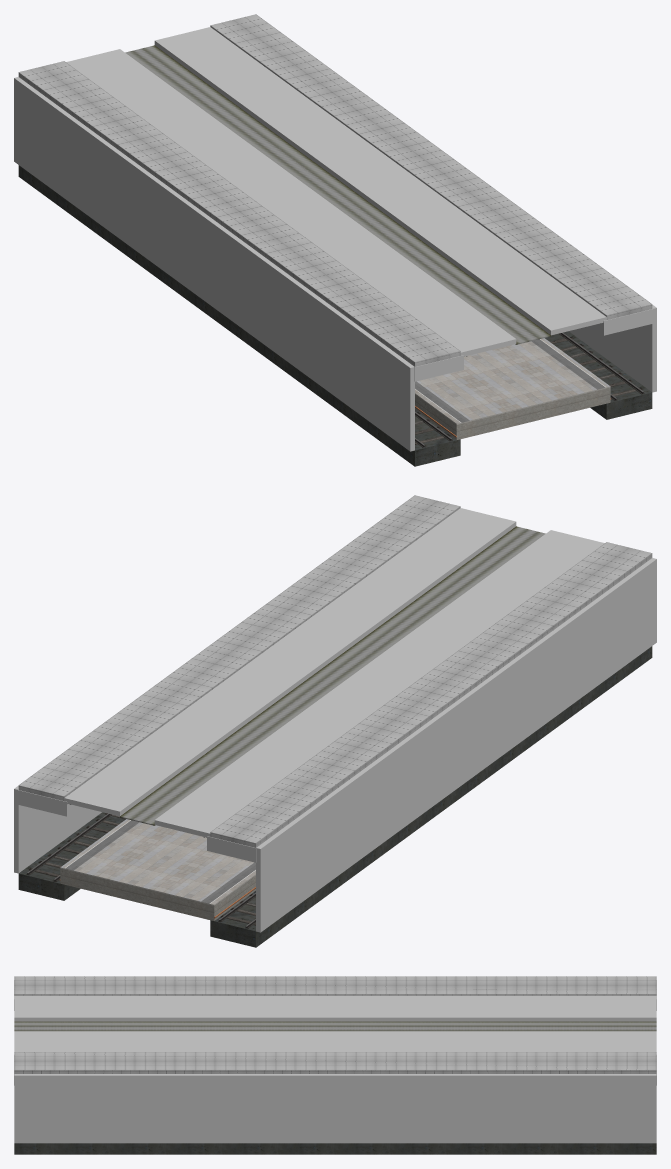
The model's file is Subway03.FBX.
The picture shows the model from 3 angles, top to bottom: view 1: azimuth 30°, elevation 25°; view 2: azimuth 150°, elevation 25°; view 3: azimuth 270°, elevation 25°; orthographic projection. The views are drawn at different scales.
Parts seen in each view (by area): view 1: Subway03Ceiling, Subway03CeilingUp, Subway03Side01a, Subway03Floor, Subway03CeilingLight, Subway03Railfloor, Subway03Side01Part, Subway03Railway; view 2: Subway03Ceiling, Subway03CeilingUp, Subway03Side01a, Subway03Floor, Subway03CeilingLight, Subway03Railfloor, Subway03Side01Part, Subway03Railway; view 3: Subway03Side01a, Subway03Ceiling, Subway03CeilingUp, Subway03Railfloor, Subway03CeilingLight.
Part boxes in pixels (x1,y1,x2,y2): Subway03Ceiling: (66,27,606,356); Subway03CeilingUp: (18,14,652,366); Subway03Side01a: (14,77,656,451); Subway03Floor: (415,338,610,439); Subway03CeilingLight: (125,45,550,344); Subway03Railfloor: (18,165,652,466); Subway03Side01Part: (414,309,652,381); Subway03Railway: (415,332,644,447); Subway03Ceiling: (64,508,604,837); Subway03CeilingUp: (18,495,652,847); Subway03Side01a: (14,558,656,932); Subway03Floor: (60,819,255,920); Subway03CeilingLight: (120,526,545,825); Subway03Railfloor: (18,646,652,947); Subway03Side01Part: (18,790,256,862); Subway03Railway: (26,813,255,928); Subway03Side01a: (14,1074,656,1143); Subway03Ceiling: (14,995,656,1051); Subway03CeilingUp: (14,976,656,1073); Subway03Railfloor: (14,1143,656,1154); Subway03CeilingLight: (14,1021,656,1031).
Bounding box in the file's own units: 26950 × 10903 × 75107.
